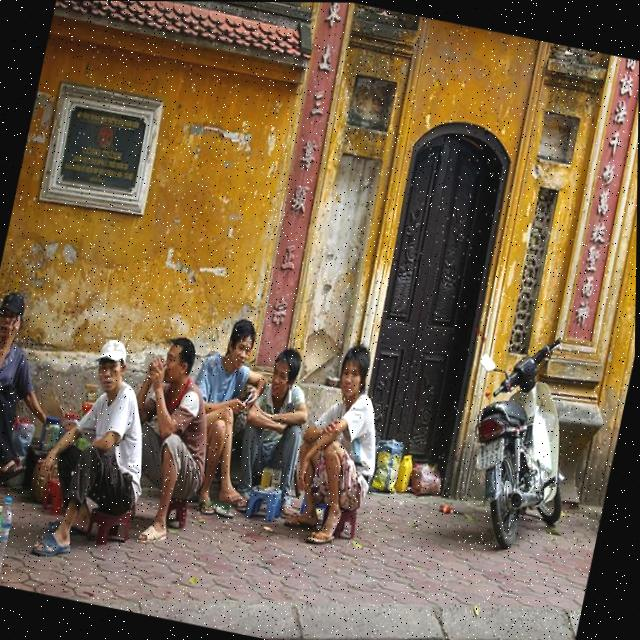motorcycle: (444, 314, 602, 564)
